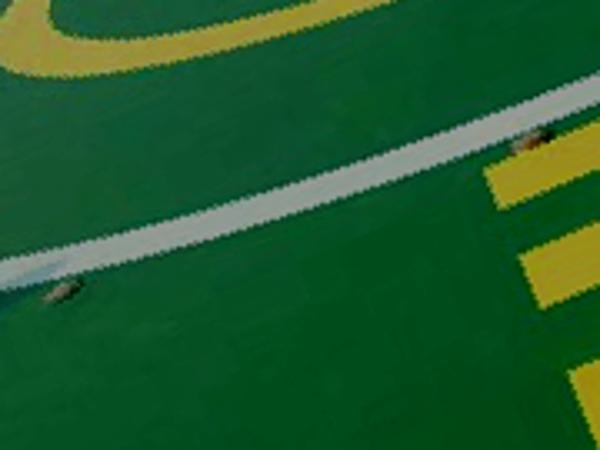Apron: (2, 3, 433, 87)
